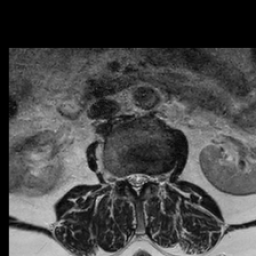CCS_normal: (133, 166, 140, 199)
LFS_normal: (148, 164, 158, 189)
LLS_normal: (140, 165, 148, 190)
RFS_stenosis: (117, 165, 125, 189)
RLS_normal: (125, 166, 133, 190)
